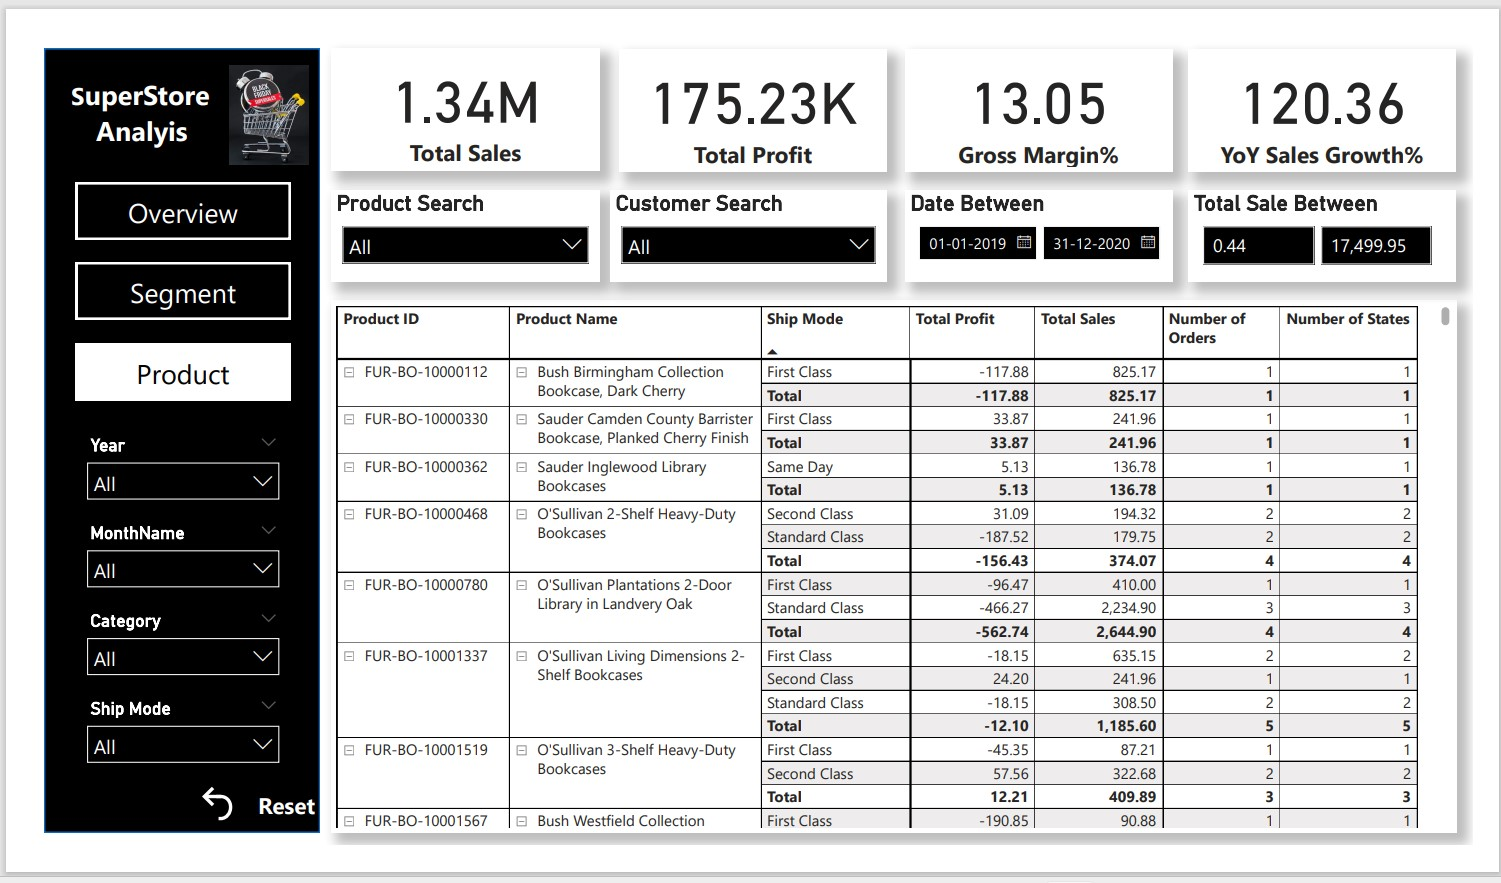

This screenshot's page, from the dashboard's own definition file:
{"tool":"powerbi","page":{"name":"Product","canvas":[1280,720],"ordinal":2},"visuals":[{"type":"shape","title":"SUPERSTORE","box":[9.8,12.2,245.7,696.8],"z":0},{"type":"textbox","box":[29.3,30.6,135.7,79.5],"z":1000},{"type":"image","box":[165,22,90.5,97.8],"z":2000},{"type":"actionButton","box":[37.9,130.8,190.7,51.3],"z":3000},{"type":"actionButton","box":[37.9,201.7,190.7,51.3],"z":4000},{"type":"actionButton","box":[37.9,273.8,190.7,51.3],"z":5000},{"type":"slicer","fields":{"Values":["Orders.Year"]},"box":[37.9,349.6,190.7,68.5],"z":6000},{"type":"slicer","fields":{"Values":["Orders.MonthName"]},"box":[37.9,427.8,190.7,78.2],"z":7000},{"type":"slicer","fields":{"Values":["Orders.Category"]},"box":[37.9,506.1,190.7,78.2],"z":8000},{"type":"slicer","fields":{"Values":["Orders.Ship Mode"]},"box":[37.9,584.3,190.7,78.2],"z":9000},{"type":"card","fields":{"Values":["Orders.Total Sales"]},"box":[265.3,12.2,238.4,108.8],"z":10000},{"type":"card","fields":{"Values":["Orders.Total Profit"]},"box":[520.7,13.4,238.4,108.8],"z":11000},{"type":"card","fields":{"Values":["Orders.Gross Margin%"]},"box":[775,13.4,238.4,108.8],"z":12000},{"type":"card","fields":{"Values":["Orders.YoY Sales Growth%"]},"box":[1026.8,13.4,238.4,108.8],"z":13000},{"type":"pivotTable","fields":{"Rows":["Orders.Product ID","Orders.Product Name","Orders.Ship Mode"],"Values":["Orders.Total Profit","Orders.Total Sales","Count(Orders.Order ID)","CountNonNull(Orders.State)"]},"box":[265,236.2,1000,472.5],"z":14000},{"type":"slicer","title":"Product Search","fields":{"Values":["Orders.Product ID"]},"box":[265.3,138.1,238.4,80.7],"z":15000},{"type":"slicer","title":"Customer Search","fields":{"Values":["Orders.Customer ID"]},"box":[513.4,138.1,245.7,80.7],"z":16000},{"type":"slicer","title":"Date Between","fields":{"Values":["Orders.Ship Date"]},"box":[775,138.1,238.4,80.7],"z":17000},{"type":"slicer","title":"Total Sale Between","fields":{"Values":["Orders.Sales"]},"box":[1026.8,138.1,238.4,80.7],"z":18000},{"type":"actionButton","title":"Reset","box":[144.2,662.5,111.2,40.3],"z":19001}]}

Visuals, with their boxes on the page's 1280x720 design canvas (x1, y1, x2, y2). These are canvas units, not pixel positions in the 1501x883 screenshot, which may show the page scaled, cropped or inside an application window:
"SUPERSTORE" shape: 10 12 256 709
textbox: 29 31 165 110
image: 165 22 256 120
actionButton: 38 131 229 182
actionButton: 38 202 229 253
actionButton: 38 274 229 325
slicer - Orders.Year: 38 350 229 418
slicer - Orders.MonthName: 38 428 229 506
slicer - Orders.Category: 38 506 229 584
slicer - Orders.Ship Mode: 38 584 229 662
card - Orders.Total Sales: 265 12 504 121
card - Orders.Total Profit: 521 13 759 122
card - Orders.Gross Margin%: 775 13 1013 122
card - Orders.YoY Sales Growth%: 1027 13 1265 122
pivotTable - Orders.Product ID x Orders.Product Name: 265 236 1265 709
"Product Search" slicer: 265 138 504 219
"Customer Search" slicer: 513 138 759 219
"Date Between" slicer: 775 138 1013 219
"Total Sale Between" slicer: 1027 138 1265 219
"Reset" actionButton: 144 662 255 703
